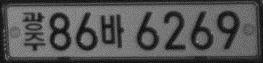2: (162, 9, 186, 50)
6: (135, 11, 159, 51), (189, 10, 213, 50), (75, 12, 98, 51)
8: (48, 11, 72, 51)
9: (216, 10, 240, 49)
광주_V: (21, 11, 45, 51)
바: (100, 13, 125, 48)
